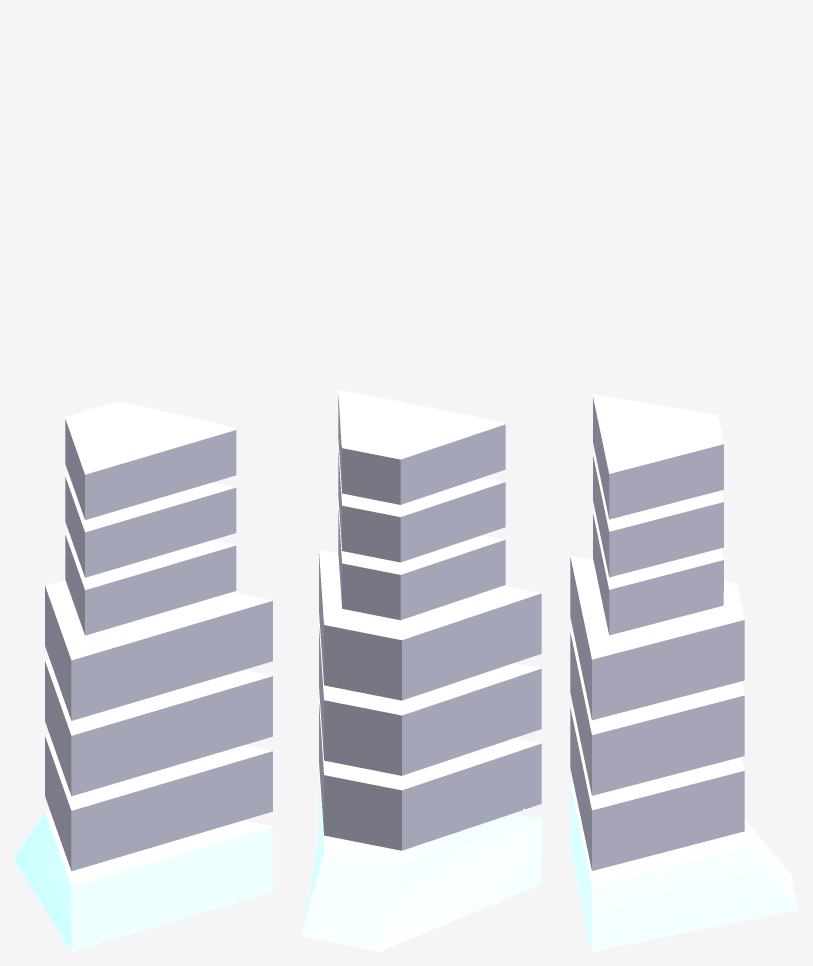
The model's file is mrakodrap5.fbx.
3 renders of one model, left to right at view 1: azimuth 30°, elevation 25°; view 2: azimuth 150°, elevation 25°; view 3: azimuth 270°, elevation 25°, orthographic.
Parts seen in each view (by area): view 1: Downtown Center City.017; view 2: Downtown Center City.017; view 3: Downtown Center City.017.
Part boxes in pixels (box(x1,y1,x2,y2)): Downtown Center City.017: box(14, 14, 272, 951); Downtown Center City.017: box(301, 14, 541, 951); Downtown Center City.017: box(570, 394, 798, 951).
Size of the model in its own units: 136 by 538 by 126.
